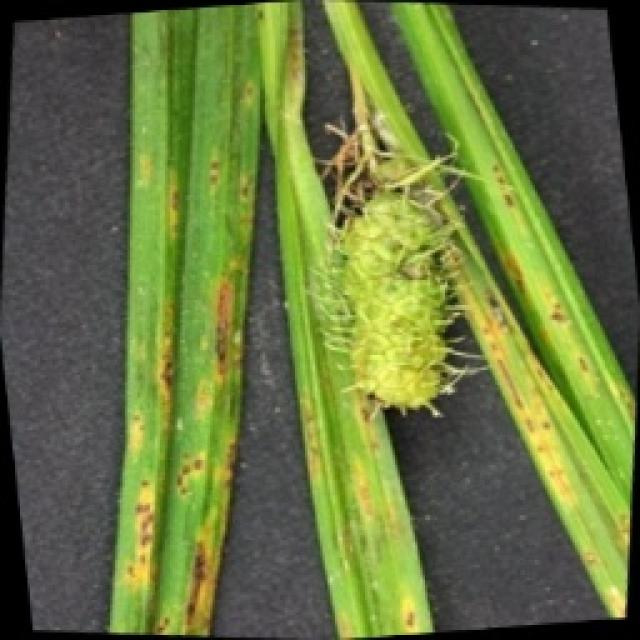Elderberry_rust: (302, 112, 490, 422)
